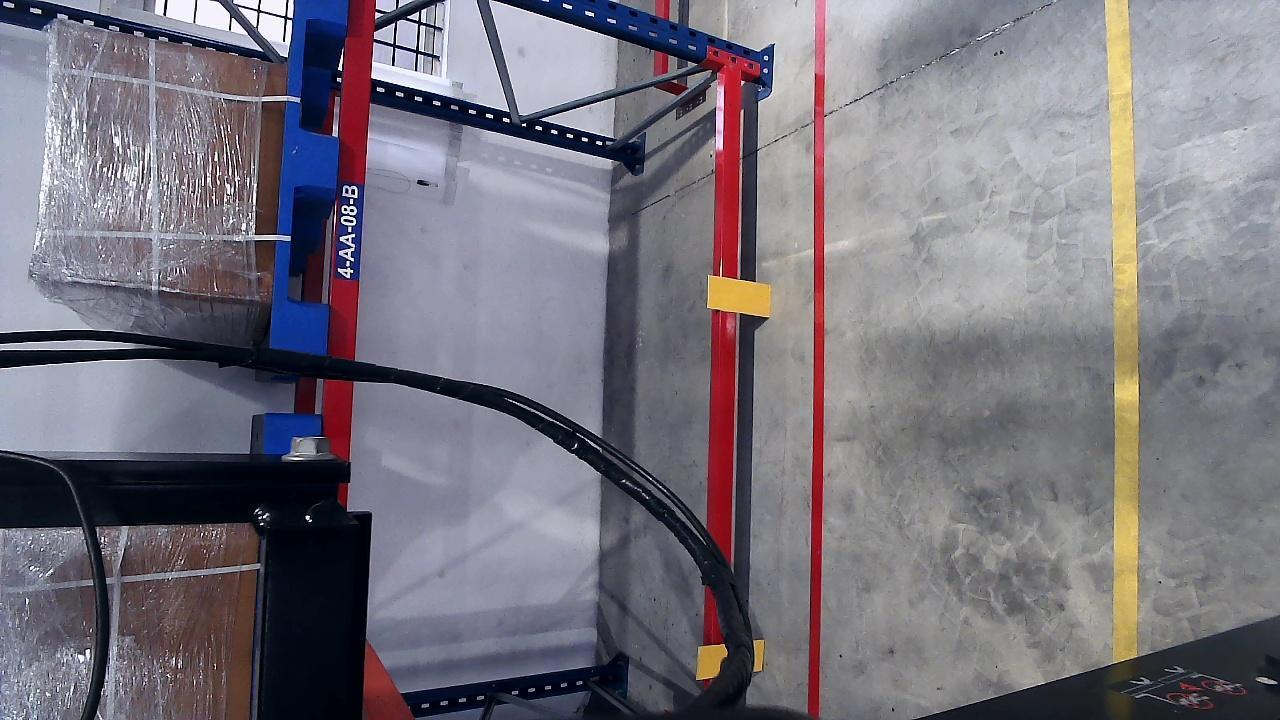red_line: (809, 29, 828, 705)
yellow_line: (1103, 0, 1142, 653)
